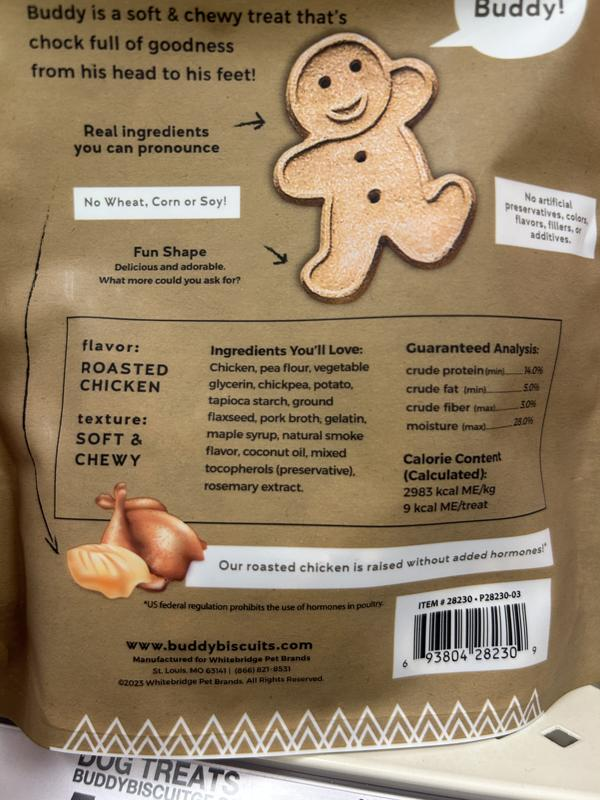ingredients: (197, 340, 374, 498)
